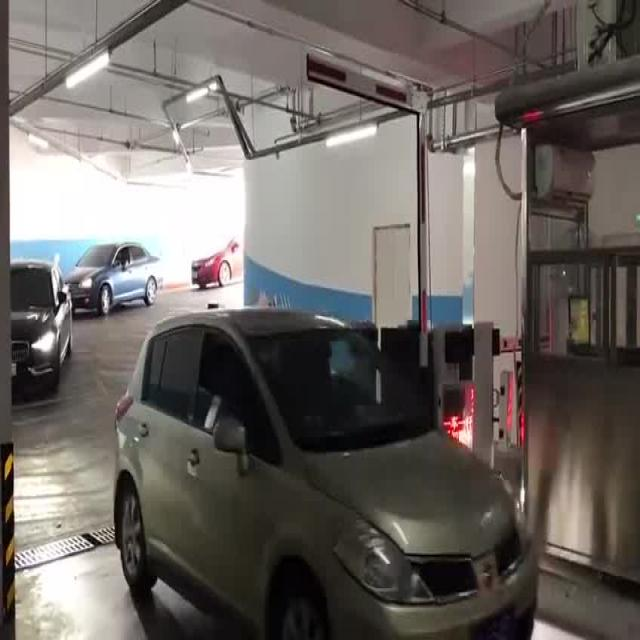CarIn: (112, 294, 544, 640), (1, 256, 72, 409), (63, 236, 168, 323), (176, 223, 259, 300)
GateClosed: (468, 319, 576, 376)
GateOpened: (301, 43, 435, 373)
